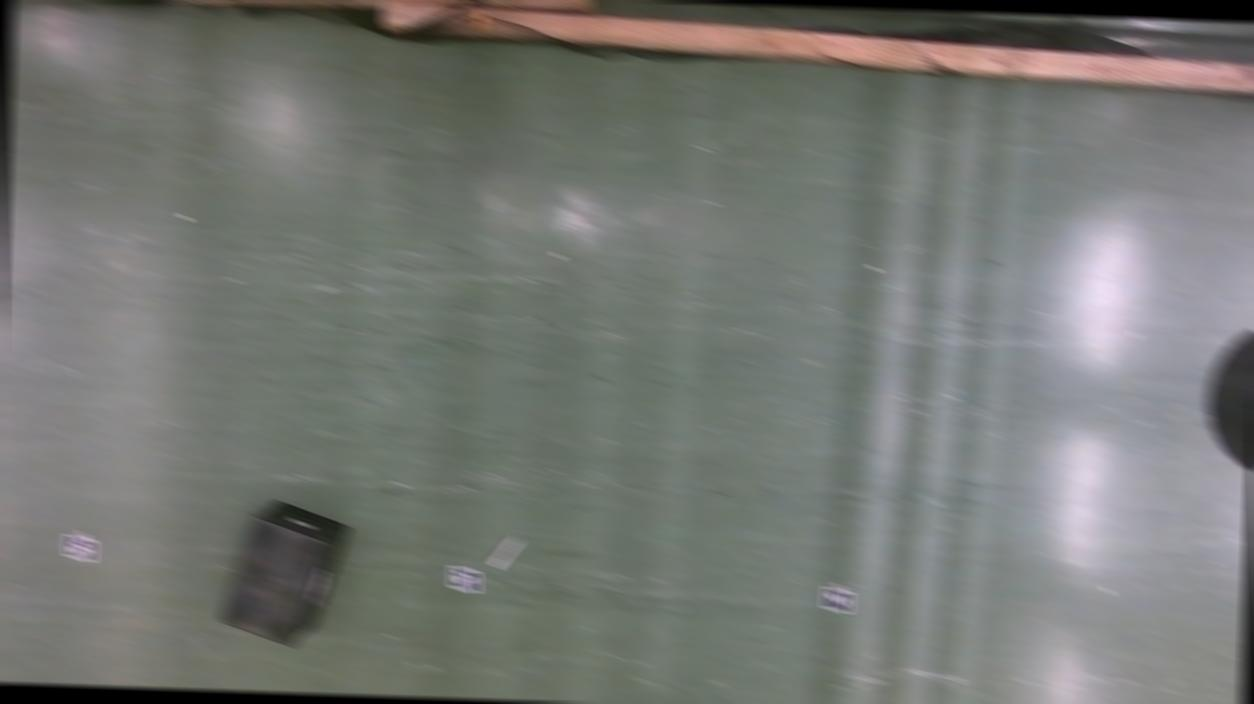probes: (490, 532, 524, 570)
rako: (216, 496, 350, 646)
